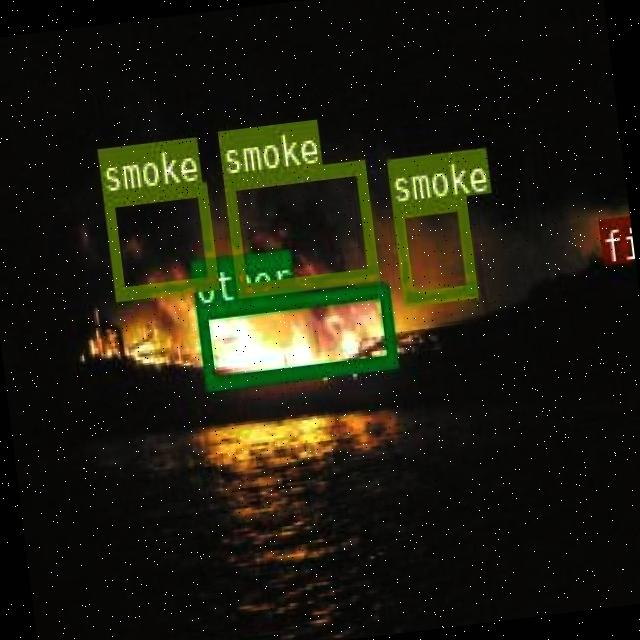fire: (596, 214, 628, 245)
smoke: (220, 158, 376, 294), (101, 179, 217, 299), (390, 193, 476, 302)
